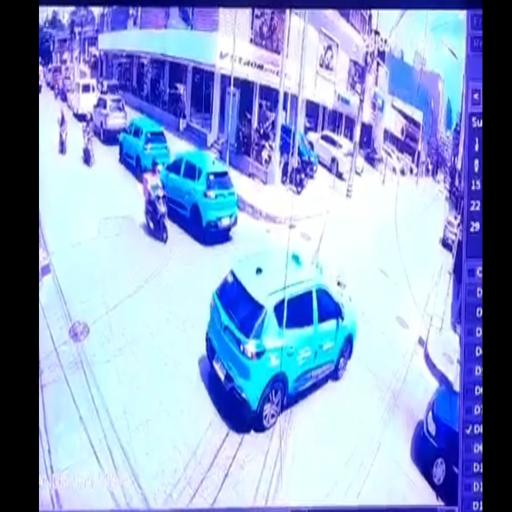Car: (207, 250, 356, 432), (159, 147, 239, 244), (412, 380, 460, 506), (119, 117, 171, 178), (277, 122, 318, 171), (309, 132, 356, 174), (93, 92, 128, 141), (66, 78, 97, 121), (379, 142, 409, 174), (440, 210, 462, 253), (48, 65, 63, 95)
Minor Accident: (206, 250, 356, 433)
Motor: (305, 251, 356, 311), (143, 165, 171, 241), (280, 152, 306, 189), (82, 130, 96, 168), (364, 147, 380, 171), (58, 122, 67, 155)
